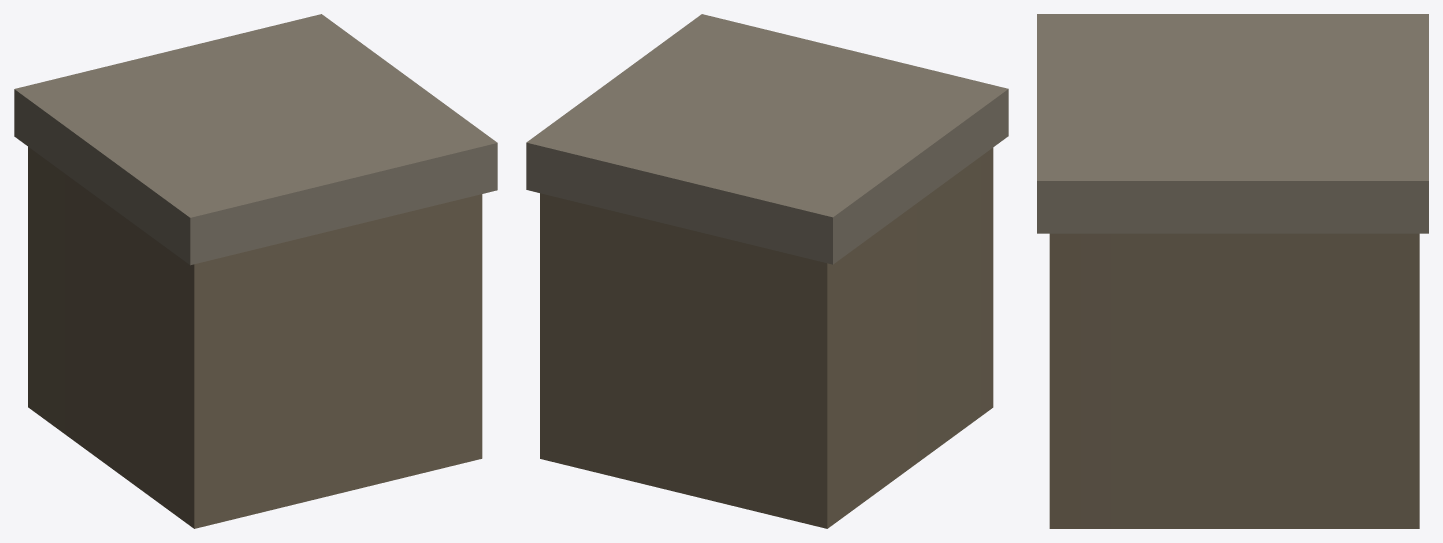
3 renders of one model, left to right at view 1: azimuth 30°, elevation 25°; view 2: azimuth 150°, elevation 25°; view 3: azimuth 270°, elevation 25°, orthographic. The views are drawn at different scales.
Visible parts, largest first — view 1: Cube 01.001, Cube 01; view 2: Cube 01.001, Cube 01; view 3: Cube 01.001, Cube 01.
Boxes of the visible parts, left/top/right/bottom form: Cube 01.001: left=28, top=147, right=482, bottom=528; Cube 01: left=14, top=14, right=497, bottom=265; Cube 01.001: left=540, top=148, right=993, bottom=528; Cube 01: left=526, top=14, right=1008, bottom=264; Cube 01.001: left=1049, top=233, right=1419, bottom=528; Cube 01: left=1037, top=14, right=1428, bottom=233.
Size of the model in its own units: 203 by 201 by 202.
Materials: 2 (2 with a texture image).
